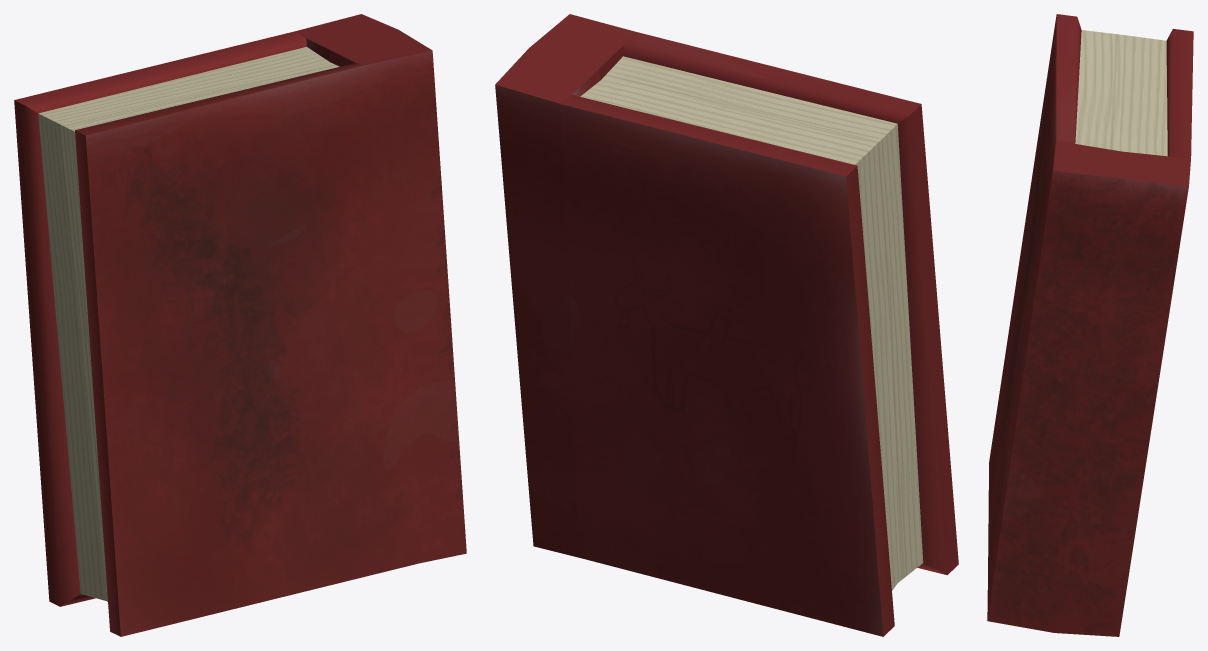
Rendered from AlchemyStationBook.fbx.
The picture shows the model from 3 angles, left to right: view 1: azimuth 30°, elevation 25°; view 2: azimuth 150°, elevation 25°; view 3: azimuth 270°, elevation 25°; orthographic projection. The views are drawn at different scales.
Parts seen in each view (by area): view 1: AlchemyStationBook; view 2: AlchemyStationBook; view 3: AlchemyStationBook.
Boxes of the visible parts, box(x1,y1,x2,y2) form: AlchemyStationBook: box(14, 14, 466, 636); AlchemyStationBook: box(495, 14, 958, 636); AlchemyStationBook: box(987, 14, 1193, 636).
Size of the model in its own units: 40.13 by 54.49 by 21.79.
